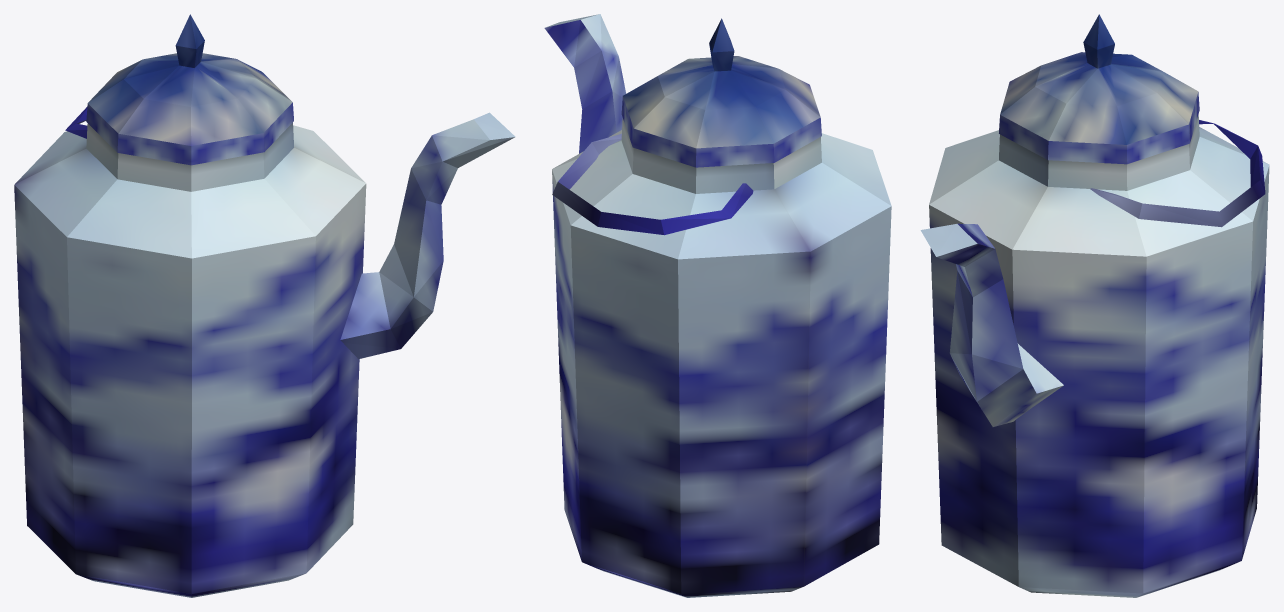
File: wujian45_qt.FBX
3 views of the same model, side by side, from view 1: azimuth 30°, elevation 25°; view 2: azimuth 150°, elevation 25°; view 3: azimuth 270°, elevation 25° (orthographic).
Parts seen in each view (by area): view 1: wujian45_qt_A; view 2: wujian45_qt_A; view 3: wujian45_qt_A.
Boxes of the visible parts, <box> form: wujian45_qt_A: <box>14,14,515,597</box>; wujian45_qt_A: <box>544,14,891,597</box>; wujian45_qt_A: <box>920,14,1269,597</box>.
Bounding box in the file's own units: 16.89 × 21.68 × 13.
